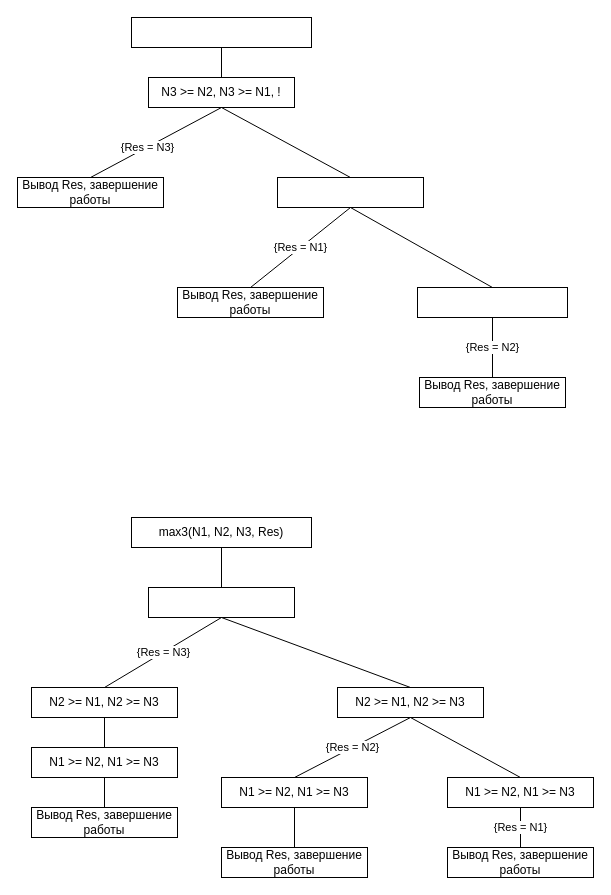
The diagram is 611 pixels wide and 895 high, and some of its shapes have lost their labels. Each missing label, with the centre of its shape:
"max3clipping(_, N2, _, N2)" goes at point 492,302.
"max3clipping(N1, N2, N3, Res)" goes at point 221,32.
"N1 >= N2, !" goes at point 350,192.
"N3 >= N1, N3 >= N2" goes at point 221,602.
